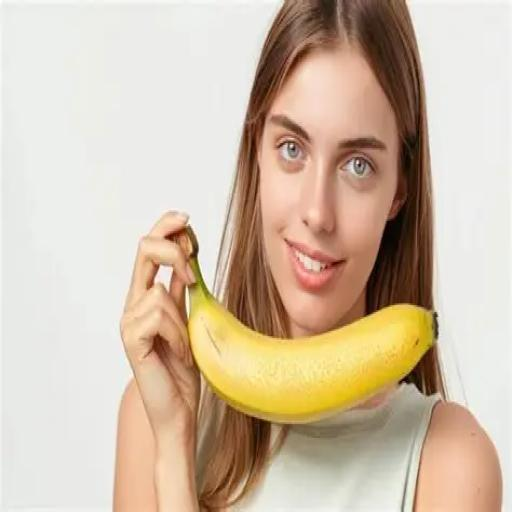banana: (180, 226, 438, 424)
